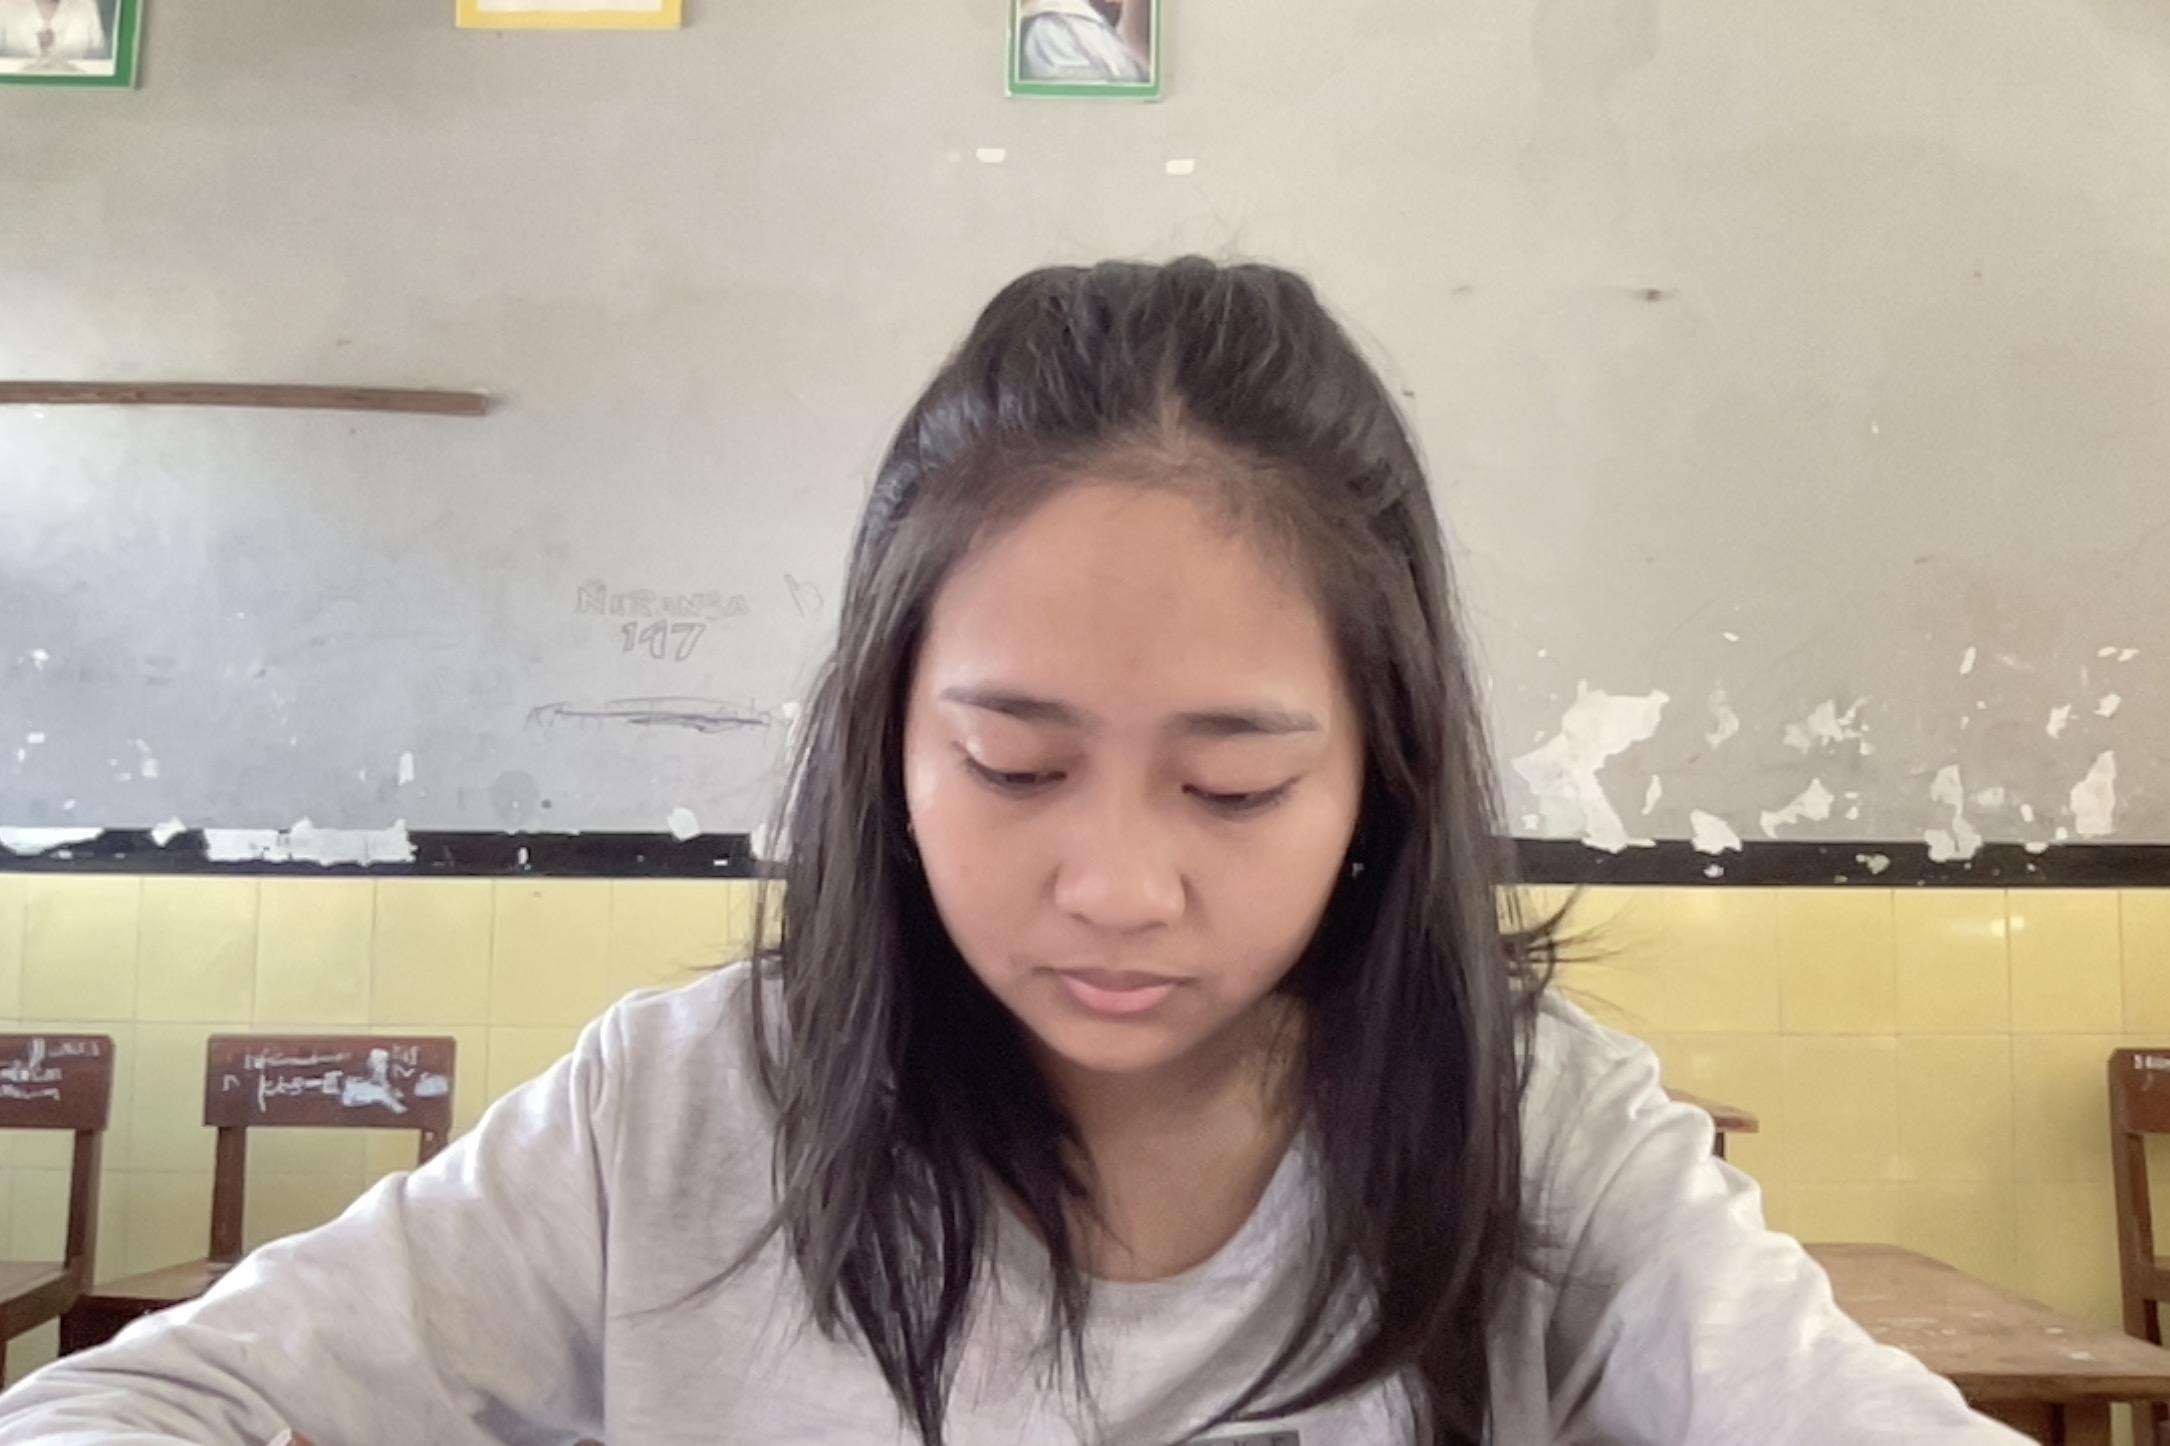good: (44, 231, 2067, 1446)
